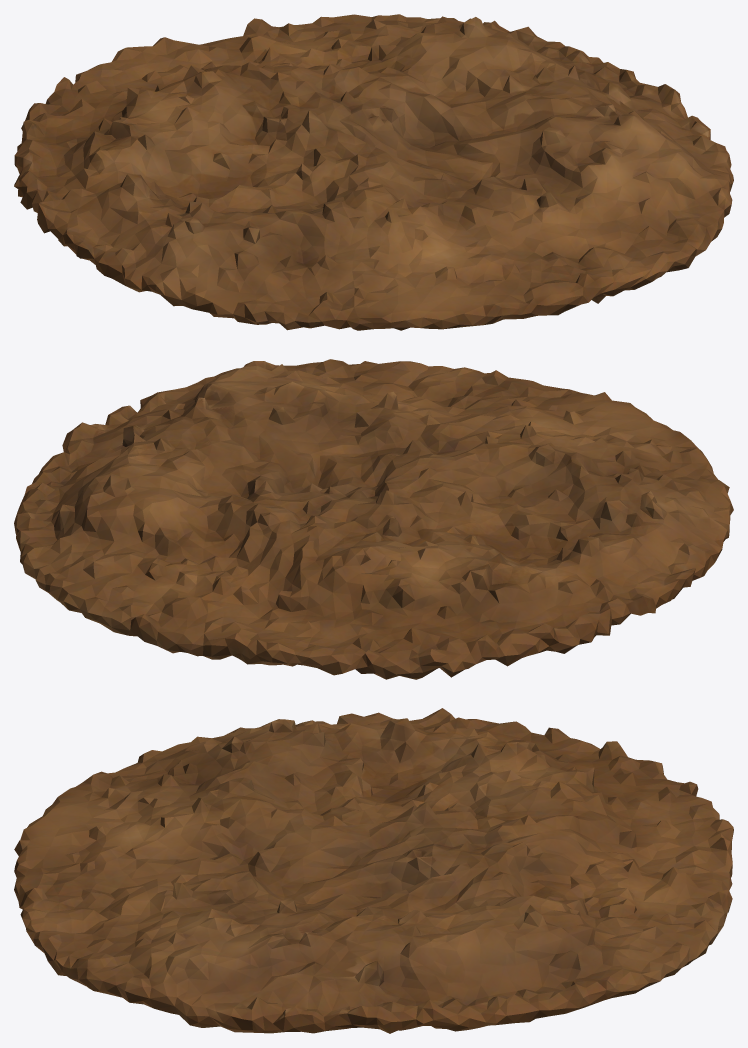
The model's file is mud_0509124625_texture.fbx.
The picture shows the model from 3 angles, top to bottom: view 1: azimuth 30°, elevation 25°; view 2: azimuth 150°, elevation 25°; view 3: azimuth 270°, elevation 25°; orthographic projection.
Parts seen in each view (by area): view 1: temp; view 2: temp; view 3: temp.
Part boxes in pixels (x1,y1,x2,y2): temp: [14, 14, 733, 330]; temp: [14, 359, 733, 679]; temp: [14, 708, 733, 1033].
Size of the model in its own units: 199 by 24.77 by 200.
1 material, 1 textured.
